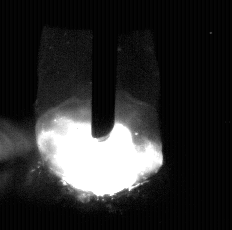arame: (92, 0, 117, 138)
poca: (36, 0, 161, 230)
